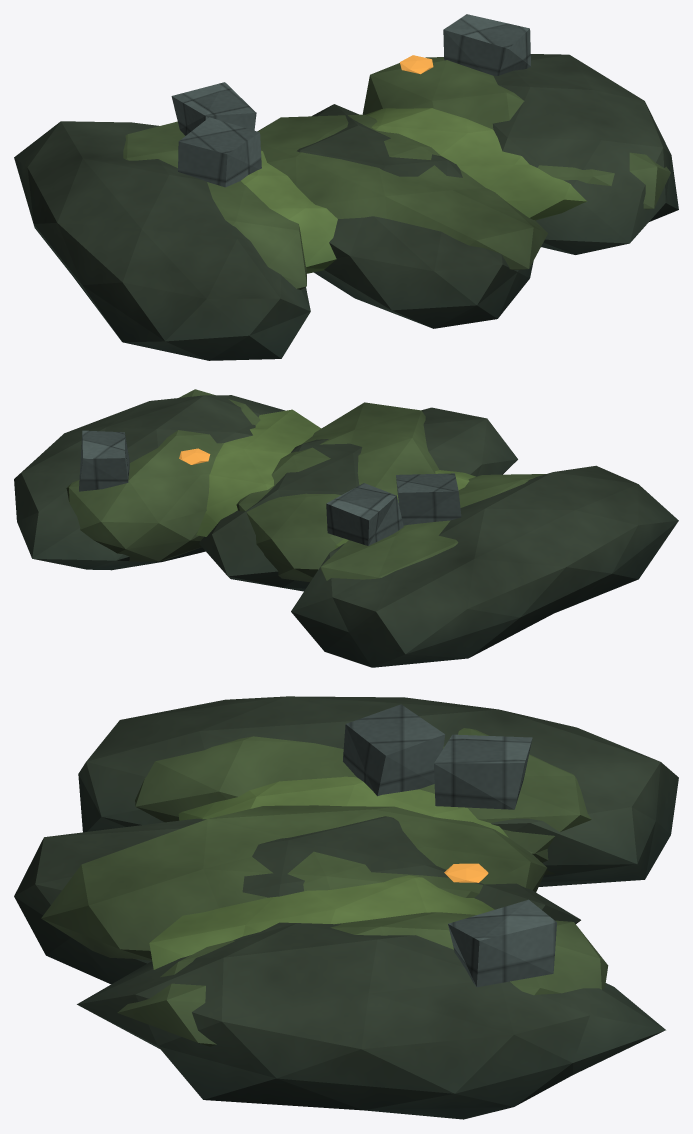
File: mud_bank_b.glb
3 renders of one model, top to bottom at view 1: azimuth 30°, elevation 25°; view 2: azimuth 150°, elevation 25°; view 3: azimuth 270°, elevation 25°, orthographic. The views are drawn at different scales.
Visible parts, largest first — view 1: mud_bank_b; view 2: mud_bank_b; view 3: mud_bank_b.
Part boxes in pixels (left/top/right/bottom): mud_bank_b: left=14, top=14, right=678, bottom=360; mud_bank_b: left=14, top=389, right=678, bottom=667; mud_bank_b: left=14, top=696, right=678, bottom=1119.
Bounding box in the file's own units: 5.26 × 1.24 × 4.06.
3 materials, 3 textured.
